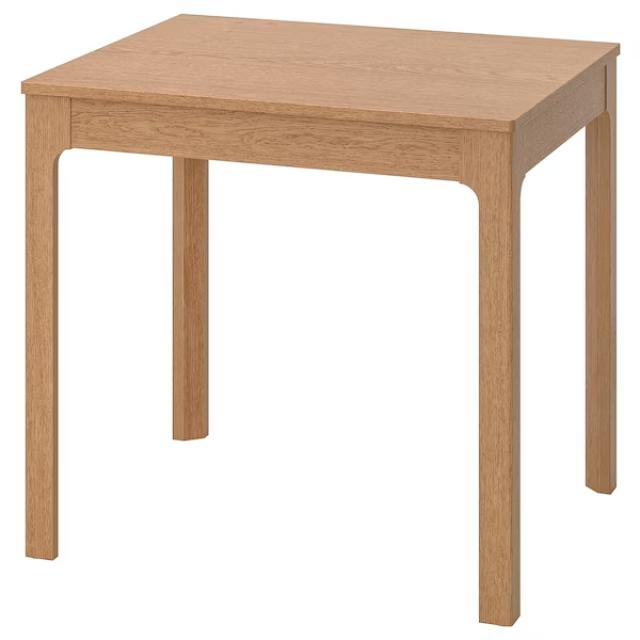table: (16, 9, 634, 634)
